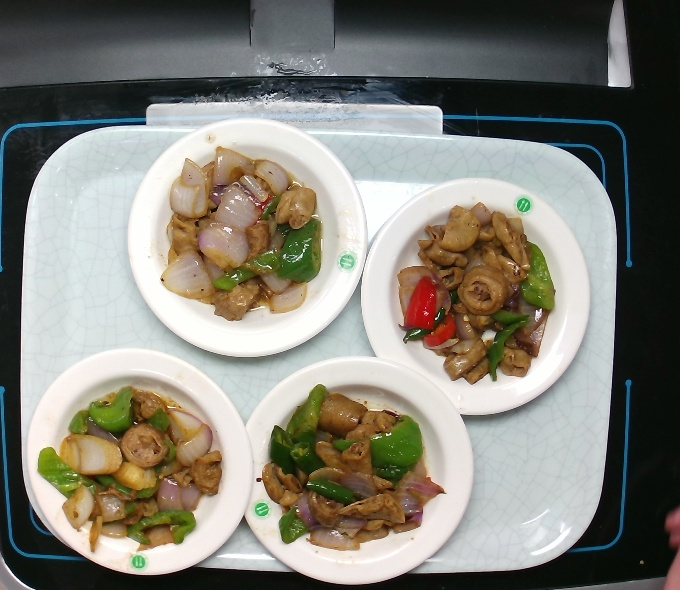wcq-QingJiaoChaoDaChang: (34, 381, 227, 557), (258, 380, 451, 556), (391, 198, 558, 388), (156, 144, 328, 326)
